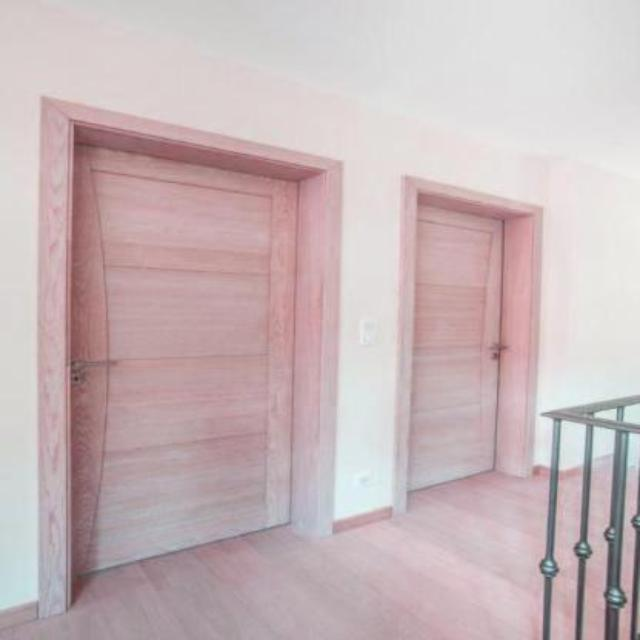door: (27, 85, 356, 628), (386, 167, 562, 530)
